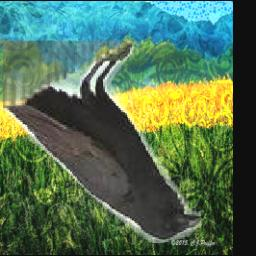Crow: (3, 41, 201, 243)
